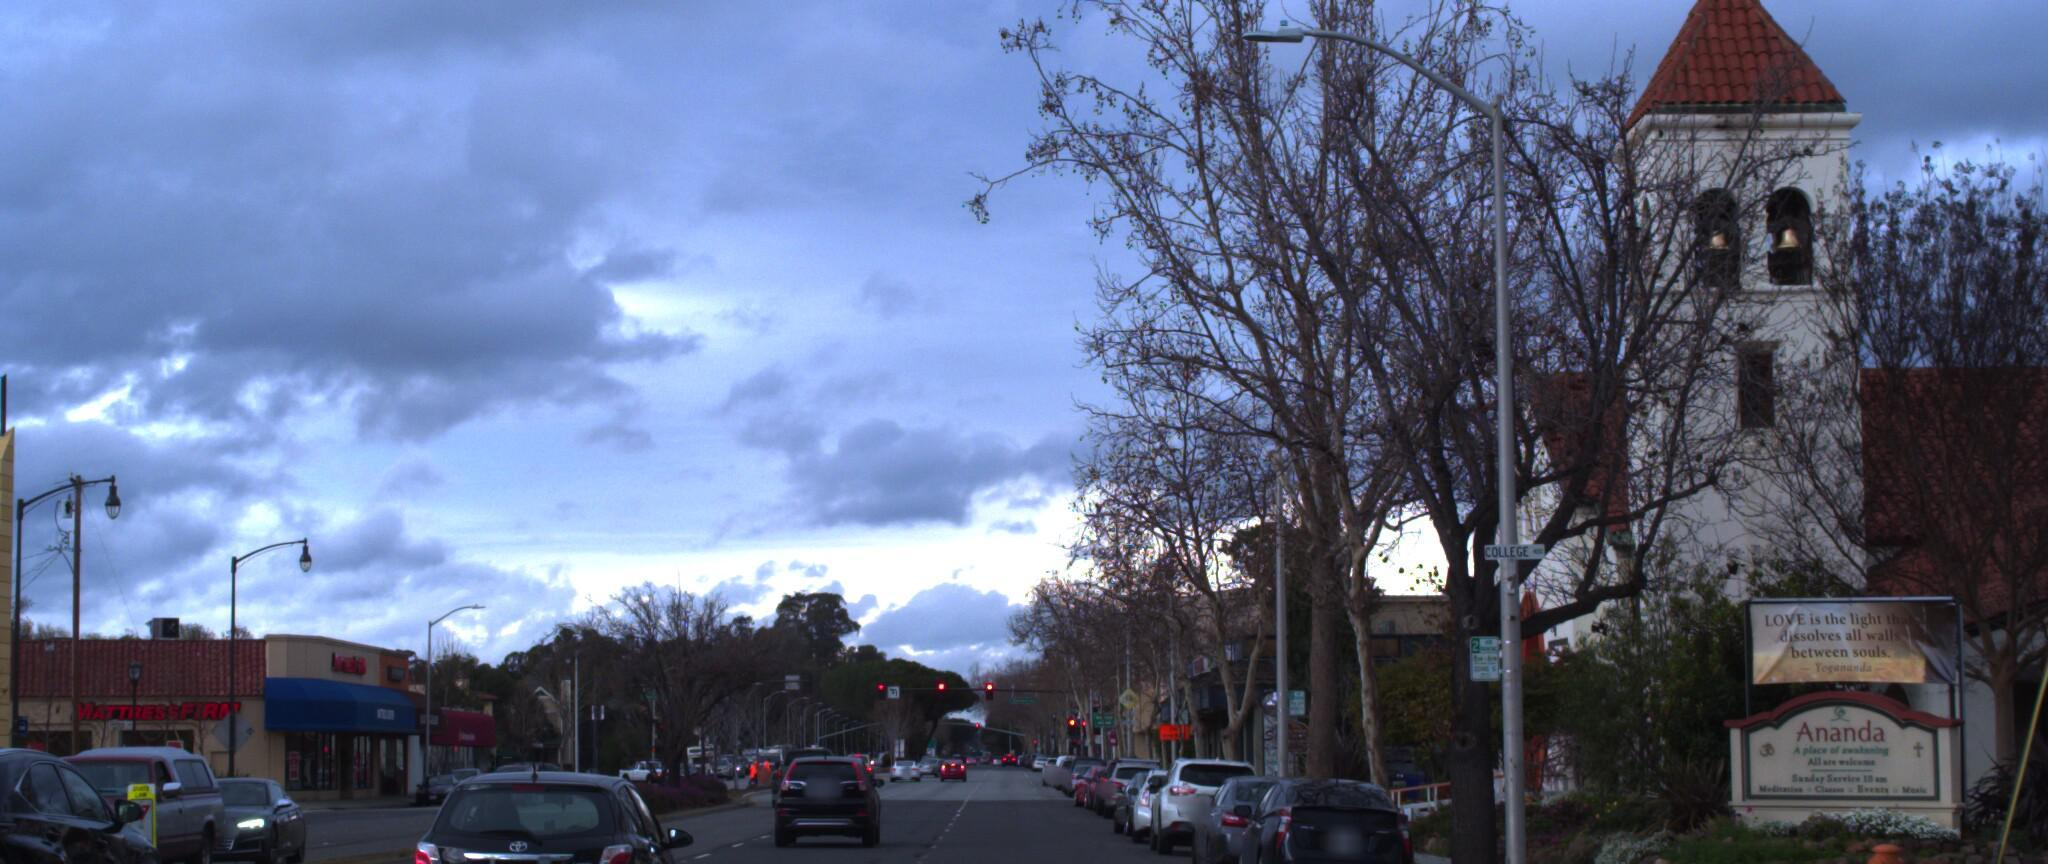car: (387, 760, 705, 864), (0, 730, 234, 864), (0, 743, 199, 864), (1220, 764, 1415, 864), (1186, 760, 1354, 864), (152, 760, 321, 857), (1145, 744, 1272, 850), (761, 739, 872, 837), (0, 737, 63, 864)
